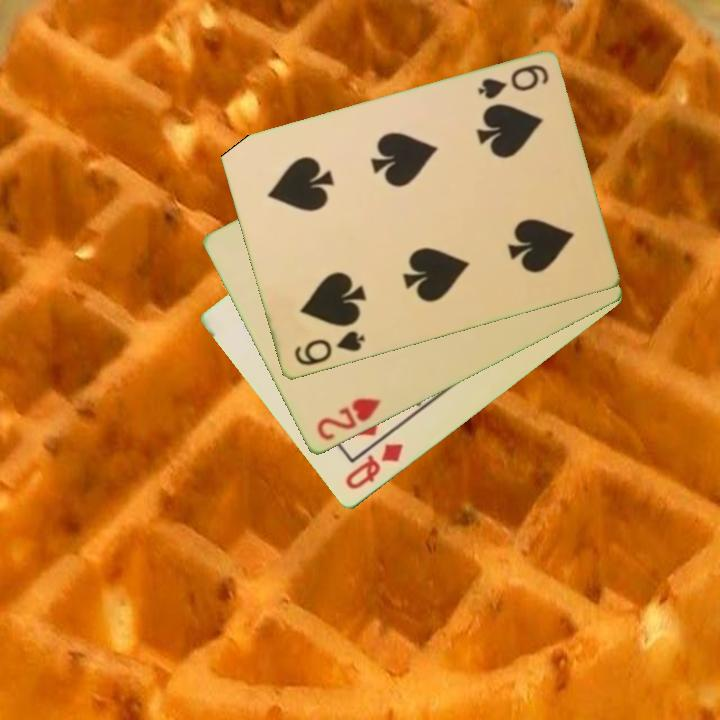2h: (312, 394, 384, 444)
6s: (474, 61, 552, 103), (290, 328, 368, 369)
Qd: (341, 440, 406, 493)
